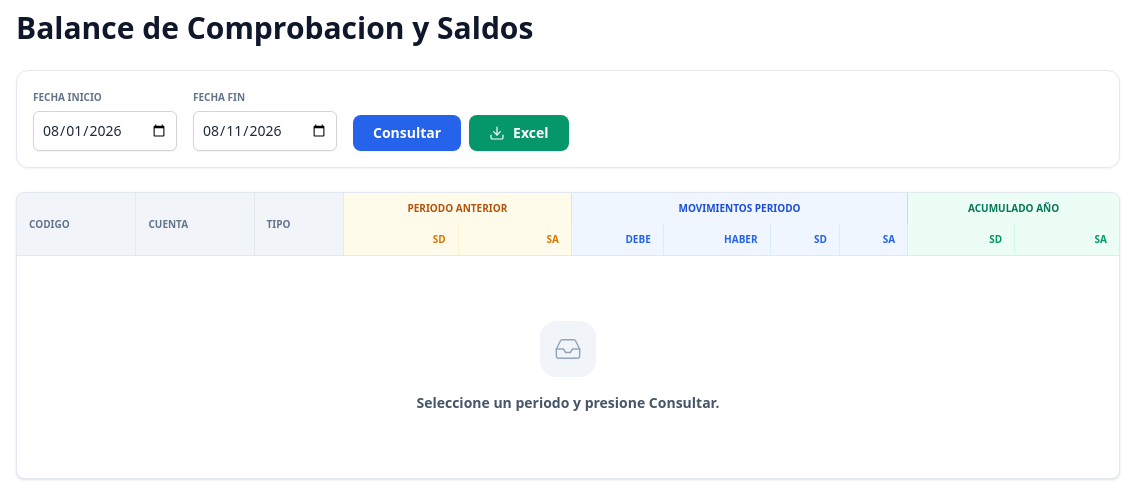
Scenario: BalanceComprobacion (vista) › muestra estado vacío con mensaje apropiado cuando no hay cuentas en el periodo
This screenshot has width=1137, height=497.
Click the button "Consultar" at (407, 133), box [353,115,461,151]
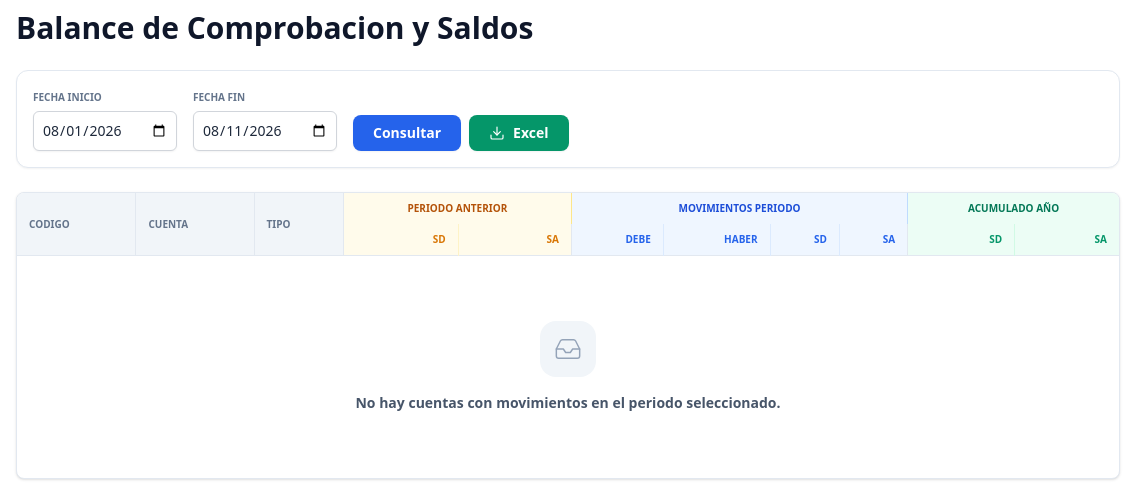
Now the text "No hay cuentas con movimientos en el periodo seleccionado." is shown, box [356,393,780,413]
